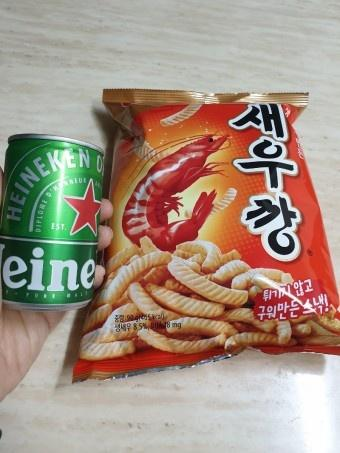snack: (71, 87, 340, 383)
